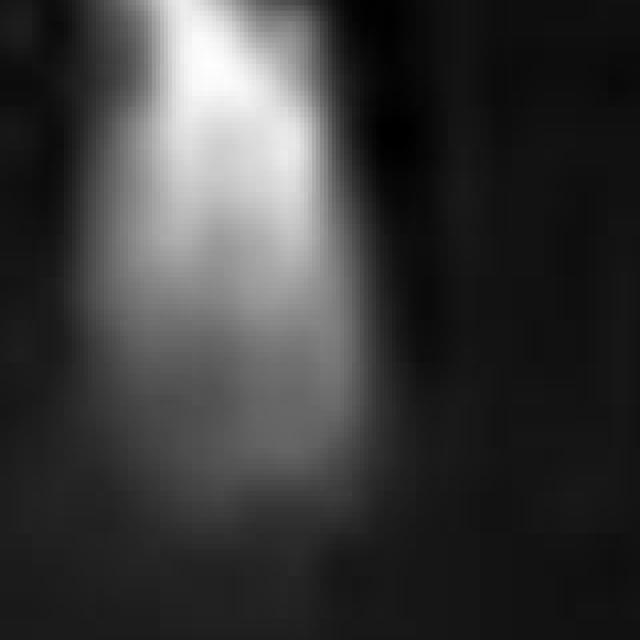person: (45, 1, 365, 545)
